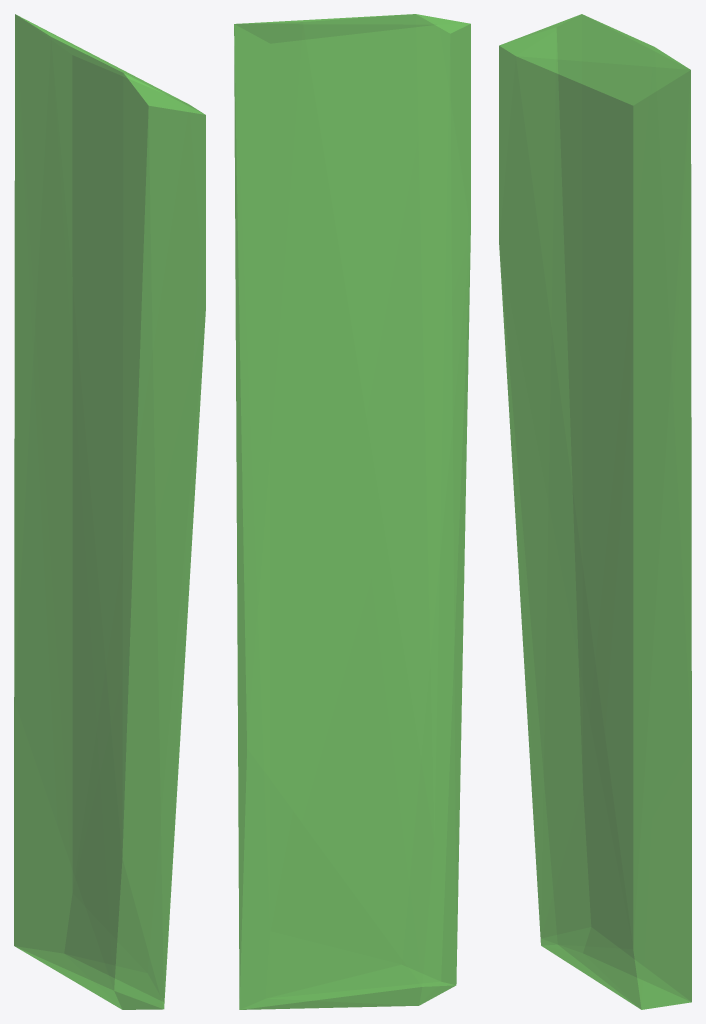
The picture shows the model from 3 angles, left to right: view 1: azimuth 90°, elevation 25°; view 2: azimuth 150°, elevation 25°; view 3: azimuth 270°, elevation 25°; orthographic projection. The views are drawn at different scales.
Parts seen in each view (by area): view 1: Shape_IndexedFaceSet.014_Shape_IndexedFaceSet.12336; view 2: Shape_IndexedFaceSet.014_Shape_IndexedFaceSet.12336; view 3: Shape_IndexedFaceSet.014_Shape_IndexedFaceSet.12336.
Part boxes in pixels (left/top/right/bottom): Shape_IndexedFaceSet.014_Shape_IndexedFaceSet.12336: left=14, top=14, right=205, bottom=1009; Shape_IndexedFaceSet.014_Shape_IndexedFaceSet.12336: left=234, top=14, right=470, bottom=1009; Shape_IndexedFaceSet.014_Shape_IndexedFaceSet.12336: left=499, top=14, right=691, bottom=1009.
Bounding box in the file's own units: 0.0474 × 0.3091 × 0.0573.
